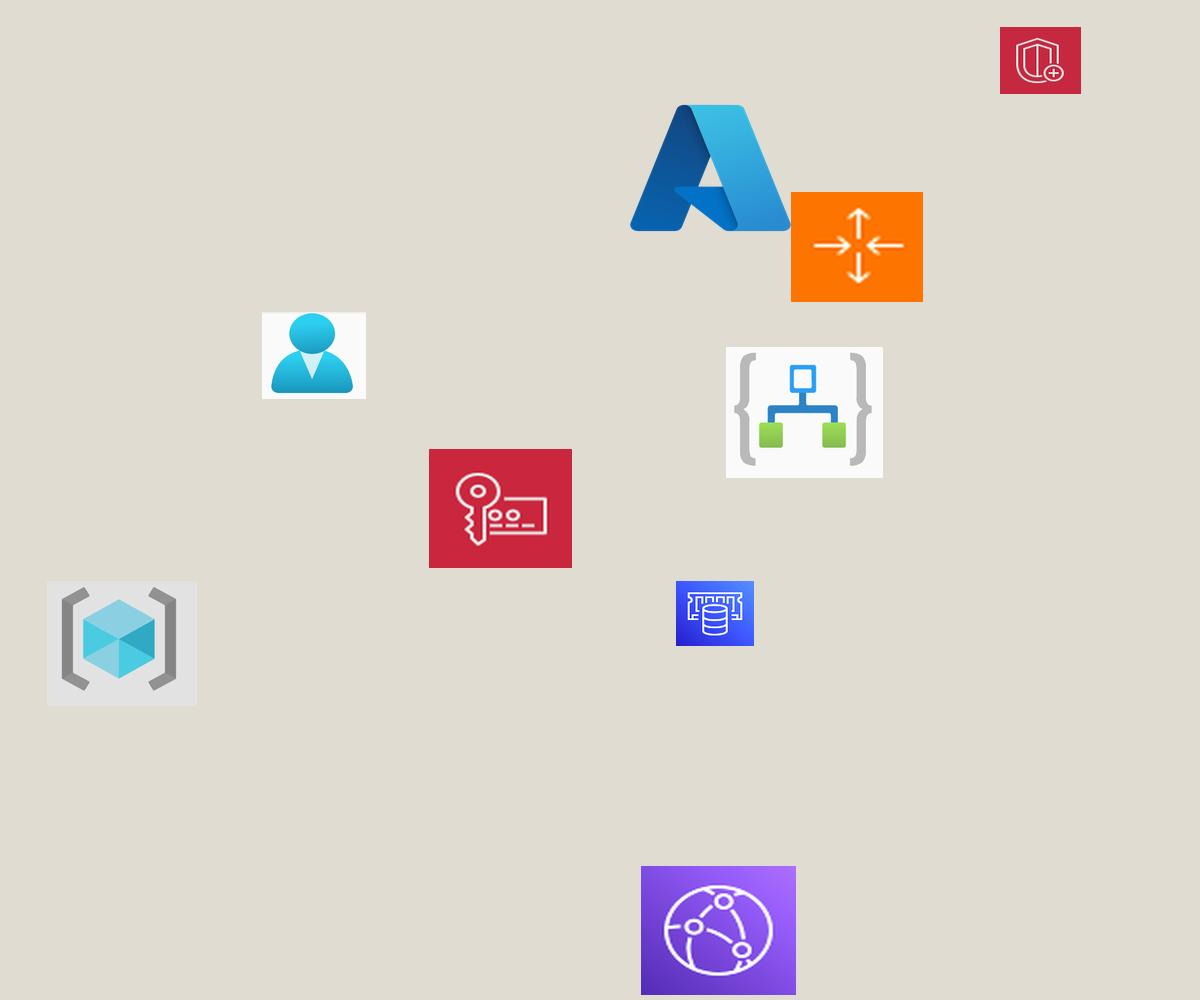AWS-CloudFront: (641, 866, 796, 995)
AWS-ElastiCache: (676, 581, 754, 646)
AWS-Key-Management-Service: (429, 449, 572, 568)
AWS-Scaling-group: (791, 192, 923, 302)
AWS-Shield: (1000, 27, 1081, 94)
Azure_integration-204-Logic-Apps: (726, 347, 883, 478)
Azure_resource_group: (47, 581, 197, 706)
Azure_services: (623, 95, 798, 241)
Azure_users: (262, 312, 366, 399)
